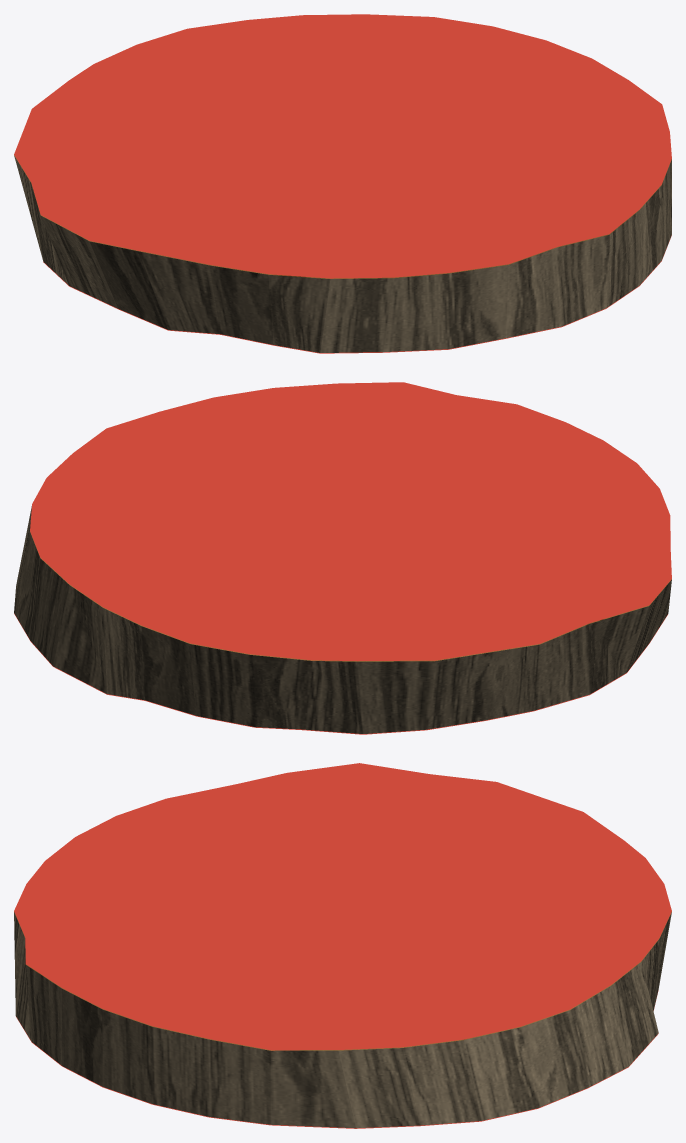
Rendered from round_cuttingboard_colored.glb.
3 views of the same model, one above another, from view 1: azimuth 30°, elevation 25°; view 2: azimuth 150°, elevation 25°; view 3: azimuth 270°, elevation 25° (orthographic). The views are drawn at different scales.
Parts seen in each view (by area): view 1: Cylinder.001, Cylinder; view 2: Cylinder.001, Cylinder; view 3: Cylinder.001, Cylinder.
Boxes of the visible parts, x1,y1,x2,y2 form: Cylinder.001: (14,14,671,353); Cylinder: (14,155,671,352); Cylinder.001: (14,382,671,734); Cylinder: (14,506,671,733); Cylinder.001: (14,763,671,1128); Cylinder: (14,911,671,1128).
Size of the model in its own units: 2.08 by 0.2642 by 2.01.
Materials: 3 (2 with a texture image).
